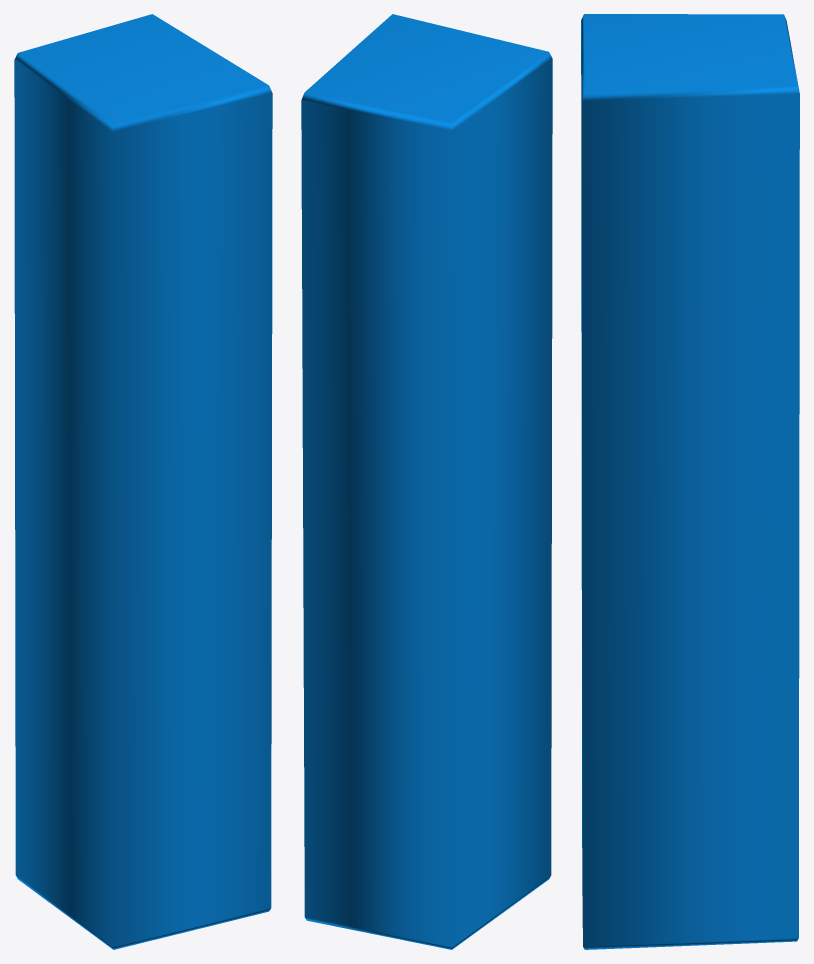
File: Wood_Pillar_Mid_01_Half.fbx
The picture shows the model from 3 angles, left to right: view 1: azimuth 30°, elevation 25°; view 2: azimuth 150°, elevation 25°; view 3: azimuth 270°, elevation 25°; orthographic projection. The views are drawn at different scales.
Visible parts, largest first — view 1: Wood_Pillar_Mid_01_Half; view 2: Wood_Pillar_Mid_01_Half; view 3: Wood_Pillar_Mid_01_Half.
Boxes of the visible parts, left/top/right/bottom form: Wood_Pillar_Mid_01_Half: left=14, top=14, right=272, bottom=949; Wood_Pillar_Mid_01_Half: left=301, top=14, right=552, bottom=949; Wood_Pillar_Mid_01_Half: left=581, top=14, right=799, bottom=949.
Bounding box in the file's own units: 30.41 × 150 × 34.7.
